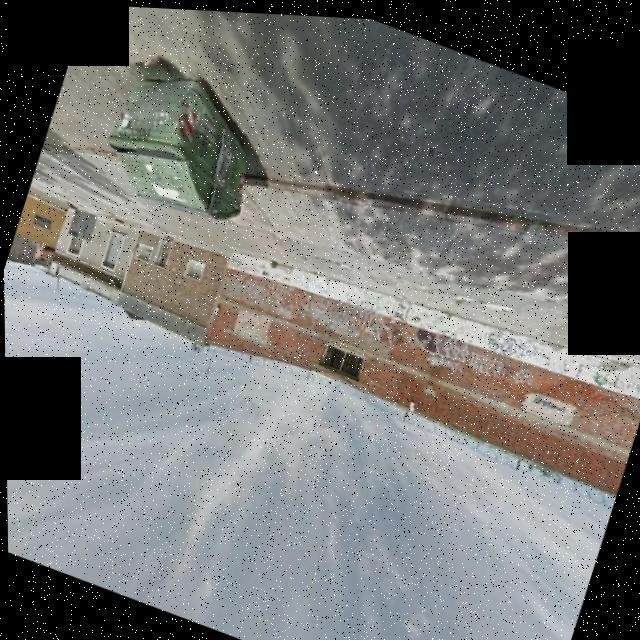bin: (78, 33, 306, 256)
